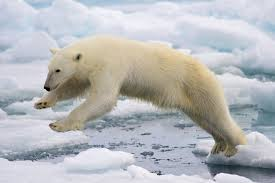PolarBear: (24, 28, 256, 159)
